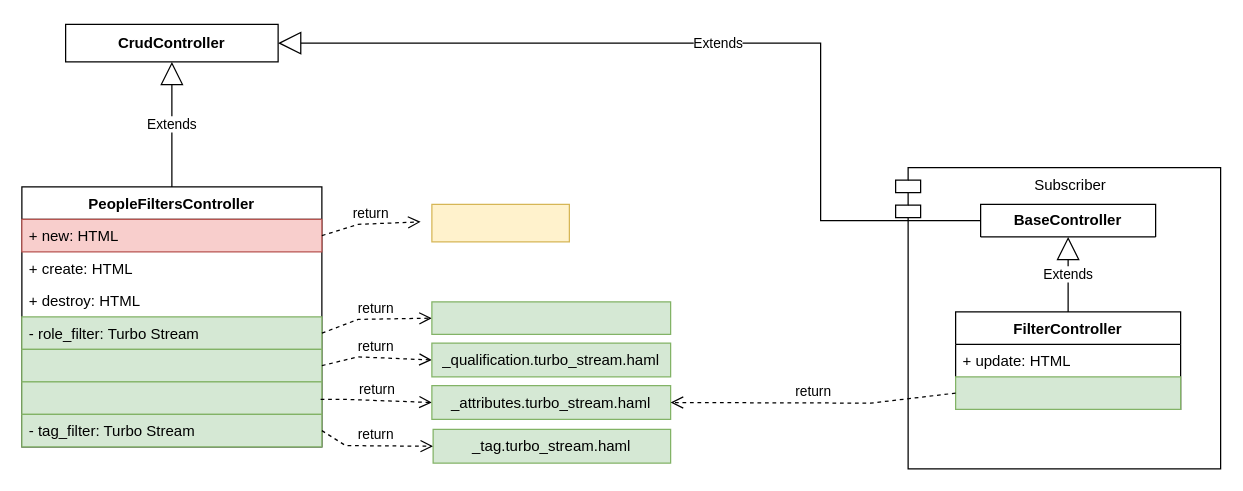
Some shapes in this 1243 by 491 pixel diagram are drawn without their labels. Here are the shapes that lost their labels. From the top down, the centre of each, then its label:
pixel 500 222: _filter.html.haml
pixel 551 317: _role.turbo_stream.haml
pixel 171 365: - qualification_filter: Turbo Stream
pixel 171 397: - attributes_filter: Turbo Stream
pixel 1067 392: + attributes_filter: Turbo Stream
